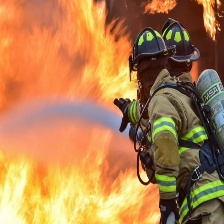fire: (1, 1, 162, 223), (196, 1, 224, 45), (141, 1, 176, 19)
